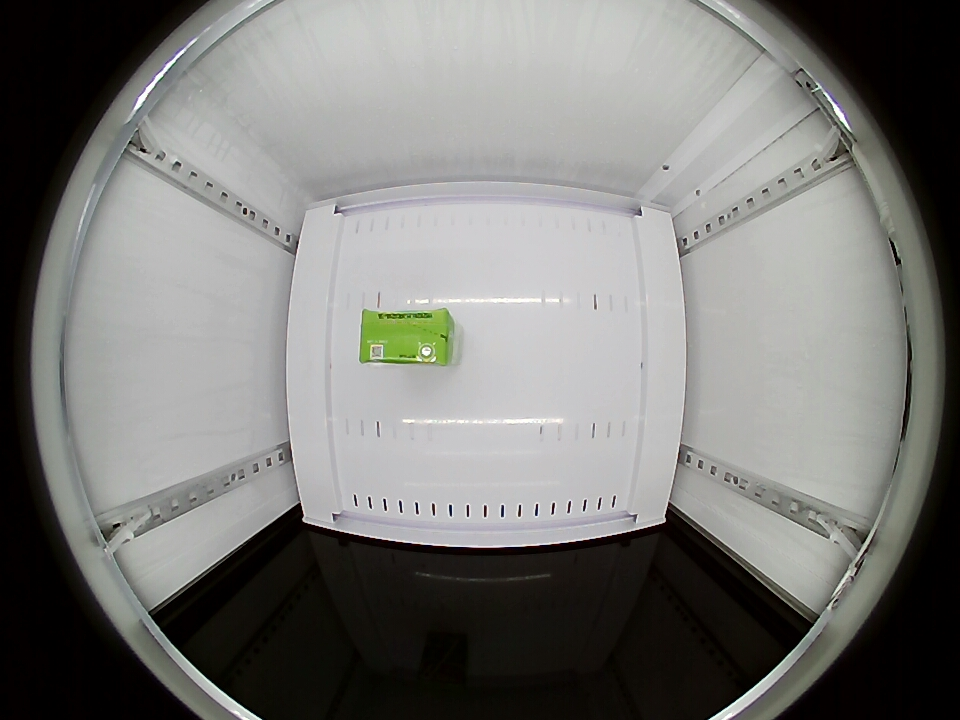mengniuzaocan: (359, 309, 454, 365)
